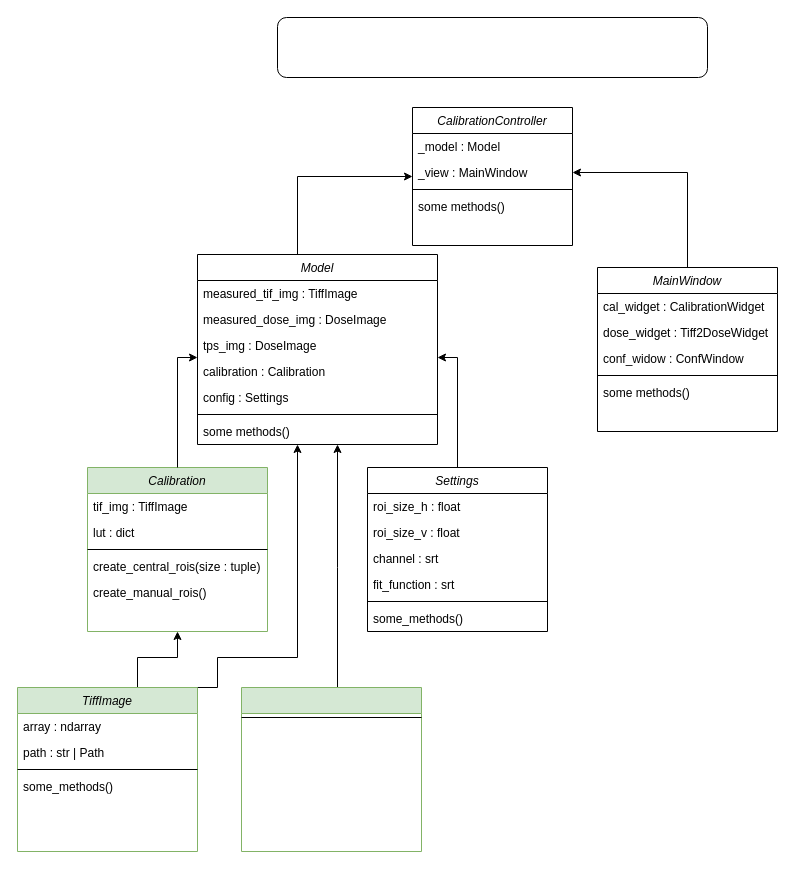
This 795x869 diagram has some shape labels left out. The centre of each missing label's shape, as x and y in pixels:
Desktop app with PyQt: [492,47]
DoseImage (TODO): [331,769]
